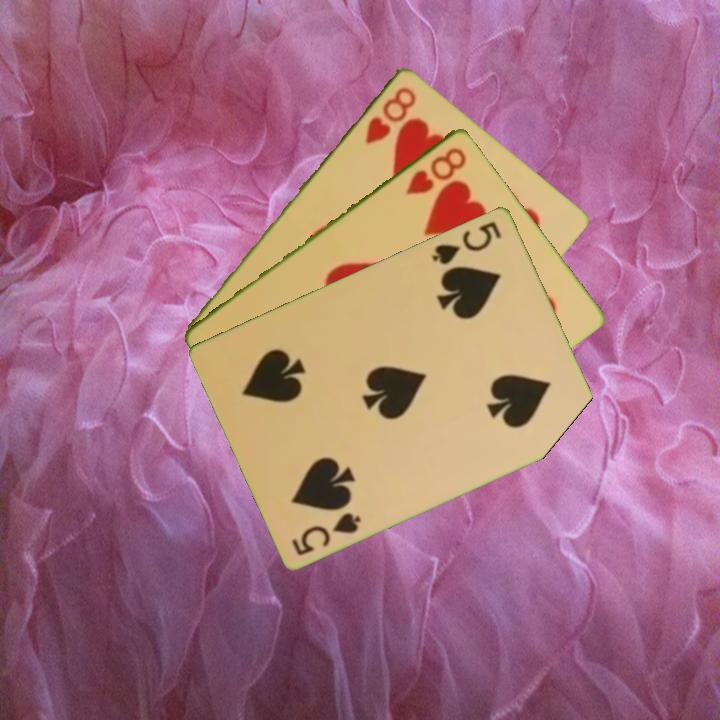5s: (428, 217, 505, 267), (288, 508, 365, 558)
8h: (362, 82, 419, 147), (402, 143, 470, 197)
